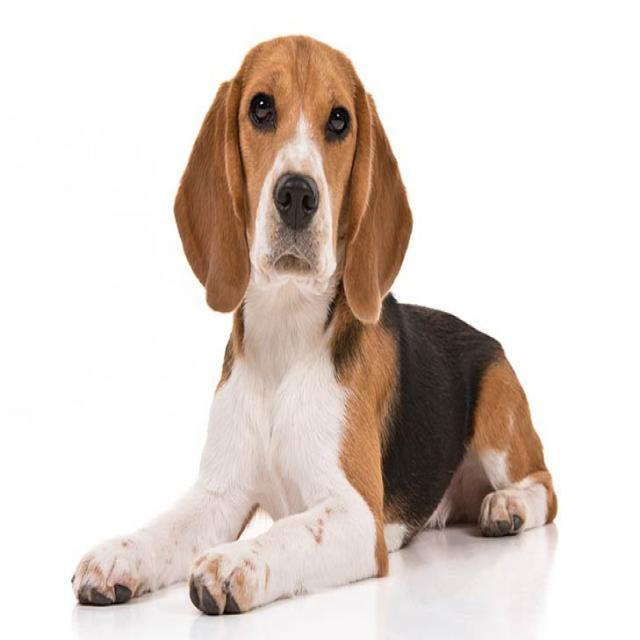Dog: (66, 29, 560, 618)
